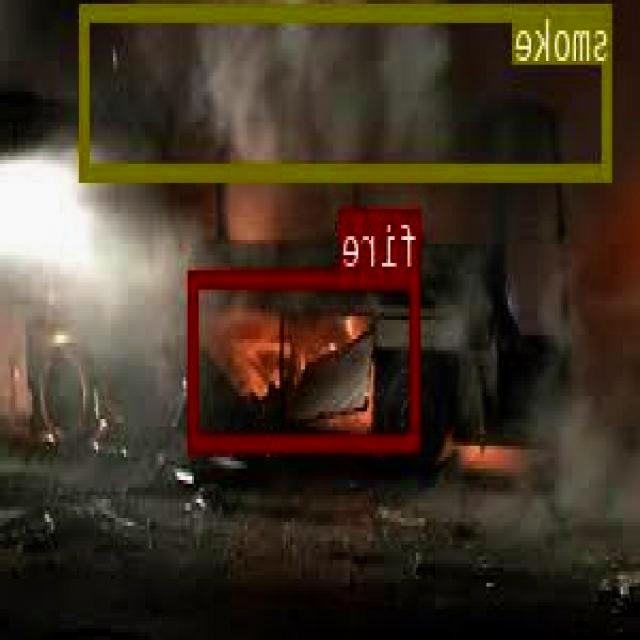fire: (192, 269, 422, 446)
smoke: (83, 0, 614, 177)
